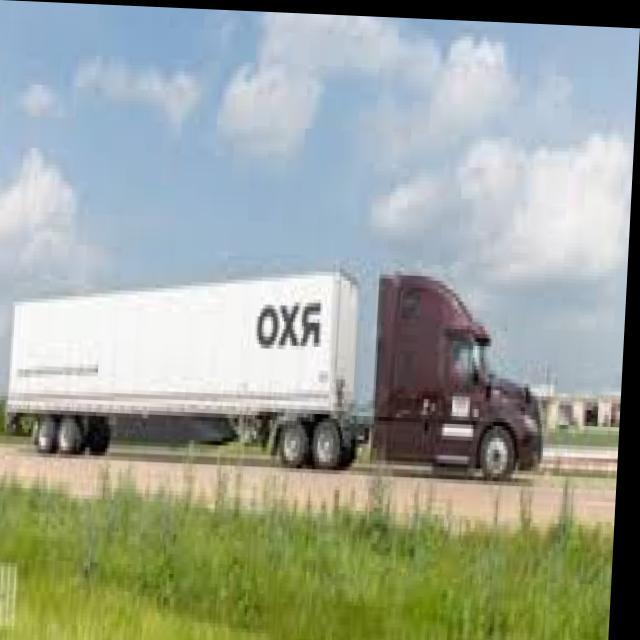covered: (9, 250, 554, 470)
